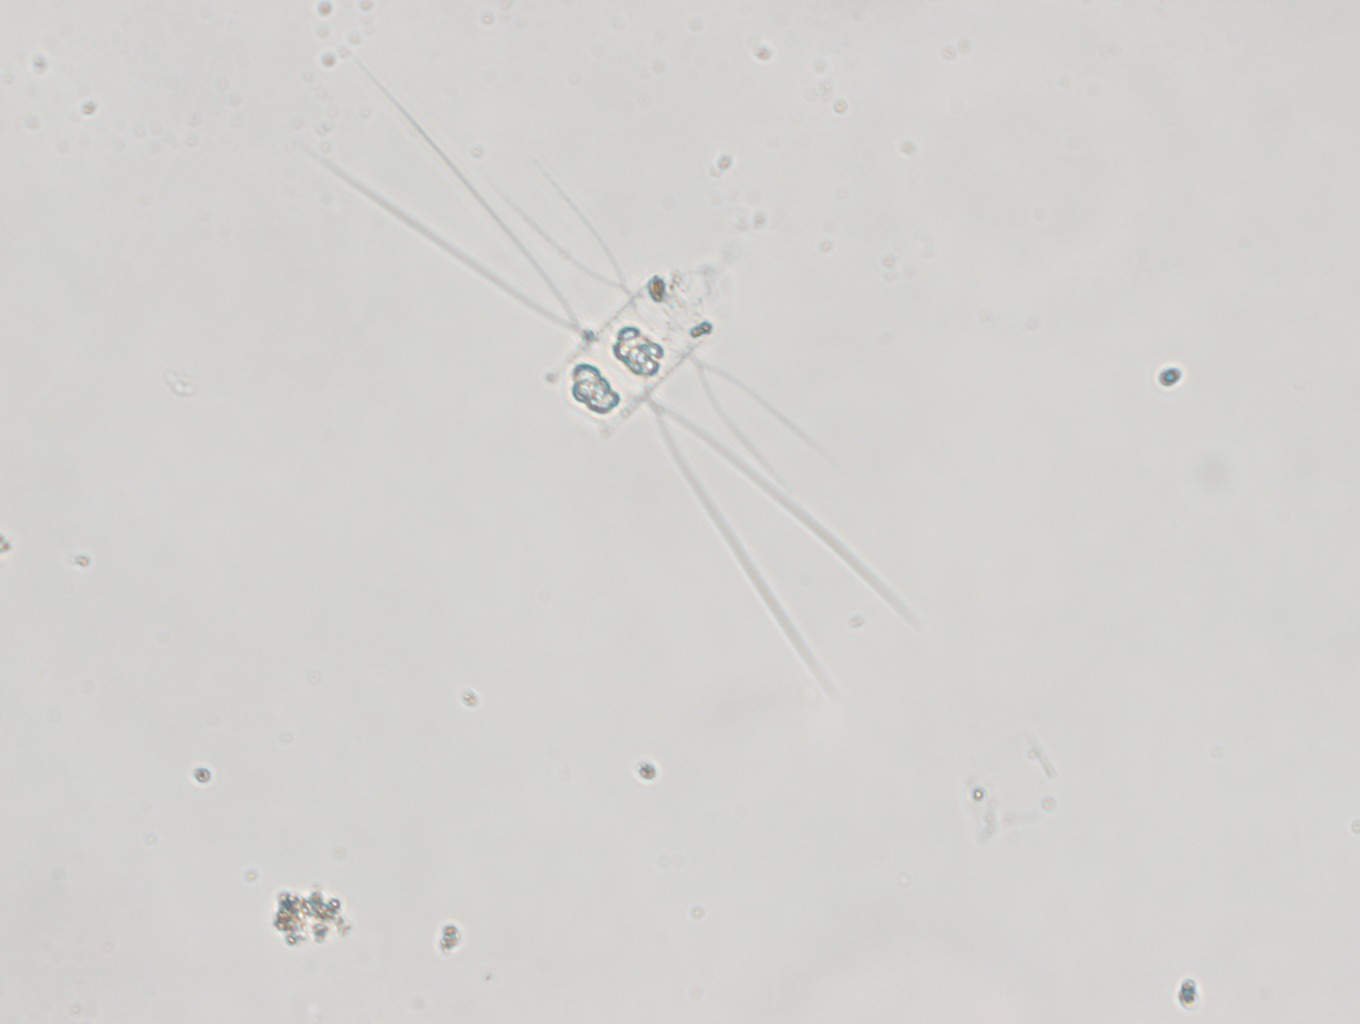chaetoceros: (300, 52, 928, 714)
